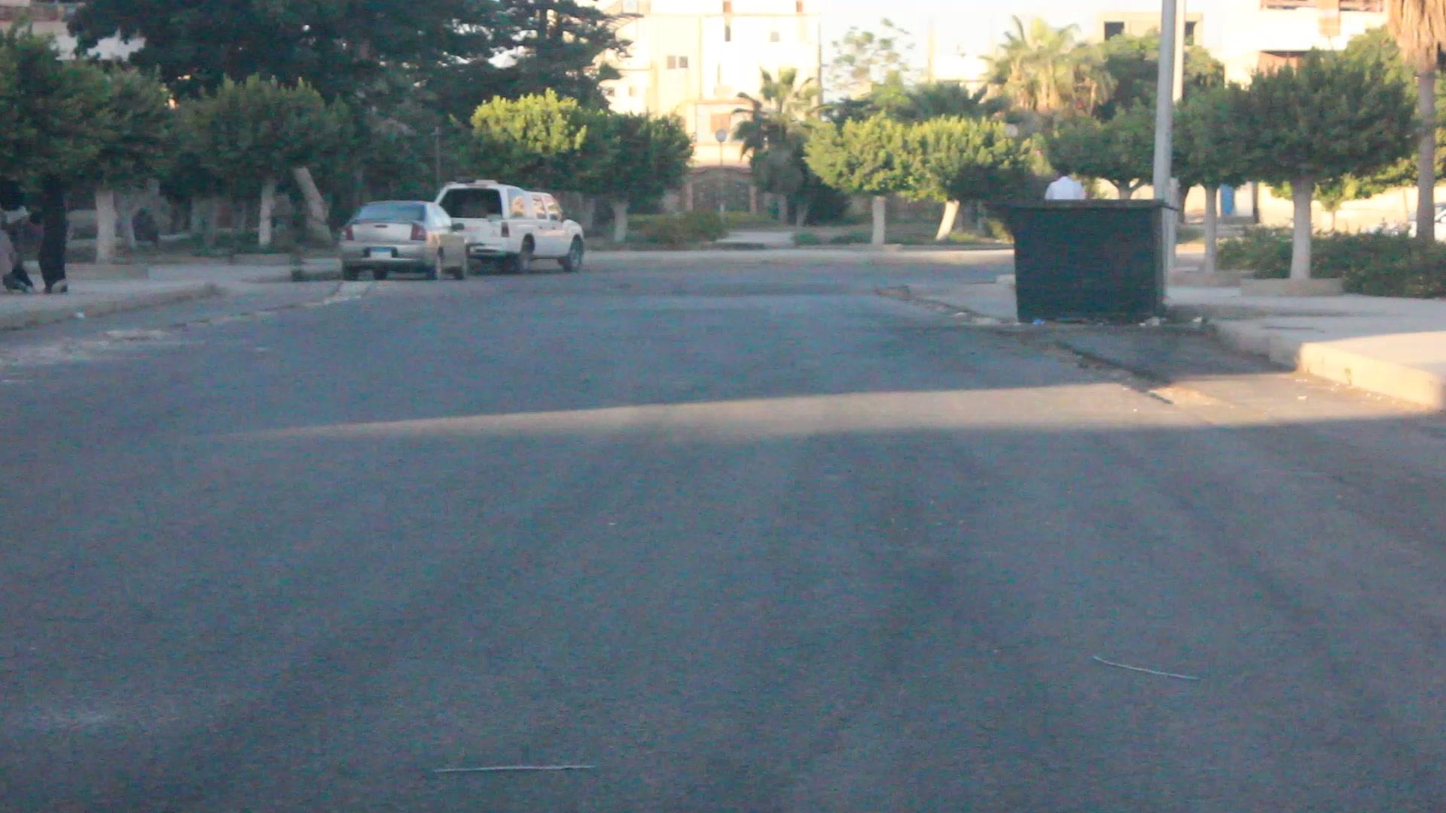Bump: (320, 273, 879, 297)
